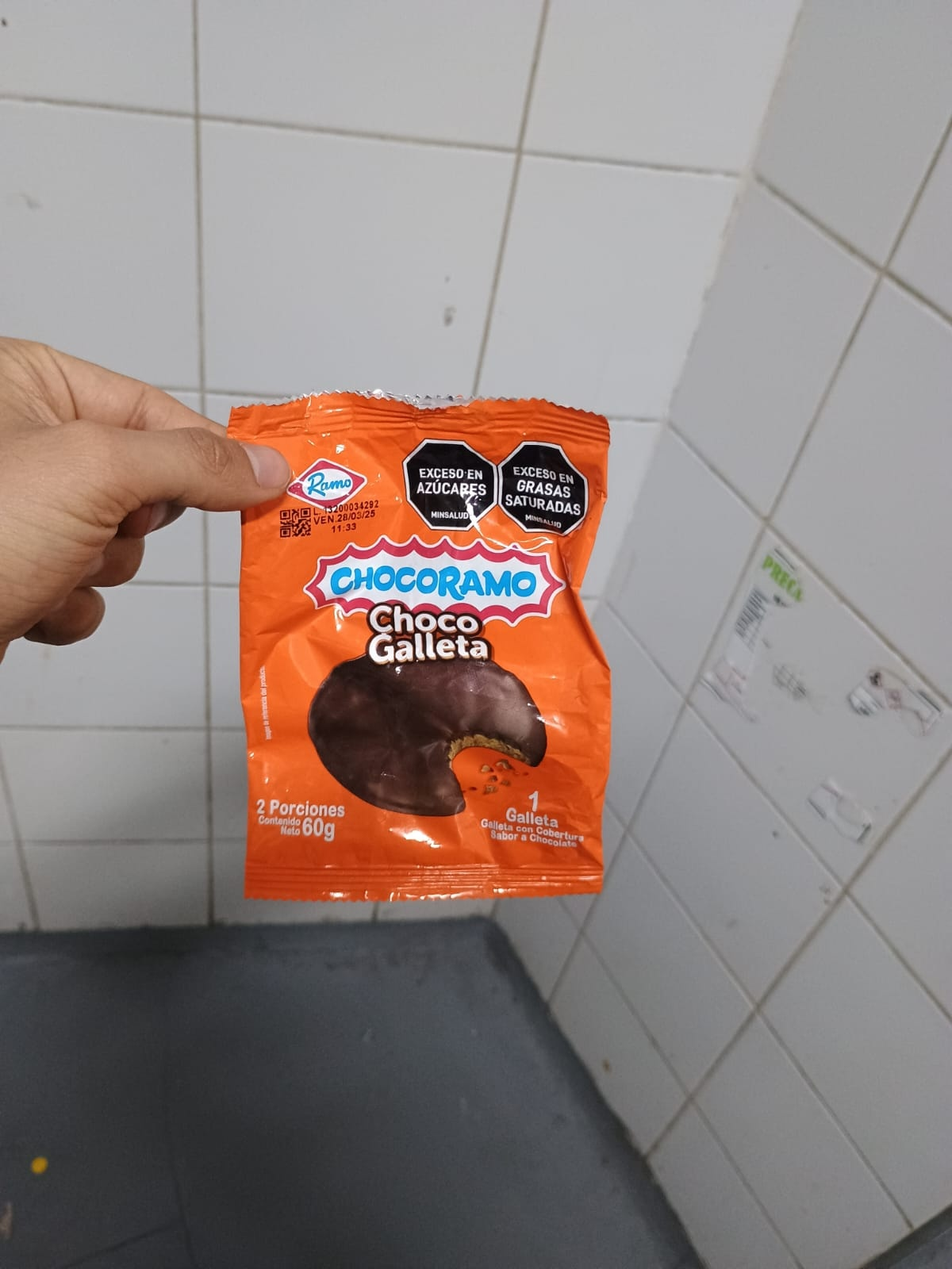Ordinario: (232, 389, 607, 901)
